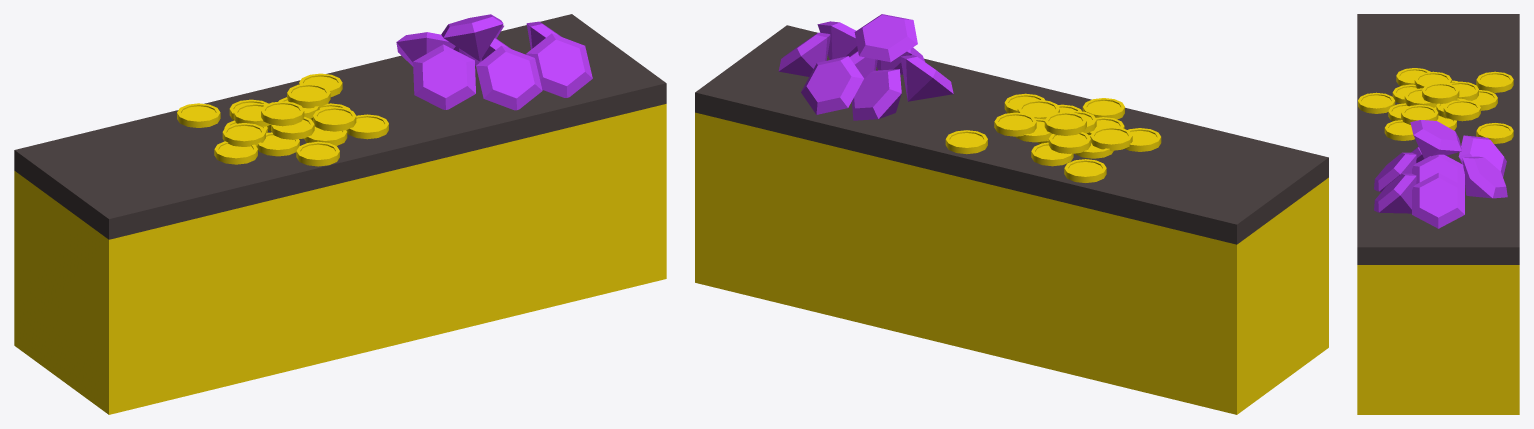
The model's file is Table_Vip.fbx.
3 renders of one model, left to right at view 1: azimuth 30°, elevation 25°; view 2: azimuth 150°, elevation 25°; view 3: azimuth 270°, elevation 25°, orthographic. The views are drawn at different scales.
Parts seen in each view (by area): view 1: Table_vip2, Table_vip1, Table_vip3; view 2: Table_vip2, Table_vip1, Table_vip3; view 3: Table_vip2, Table_vip1, Table_vip3.
Part boxes in pixels (x1,y1,x2,y2): Table_vip2: [14, 14, 666, 414]; Table_vip1: [396, 14, 592, 110]; Table_vip3: [177, 73, 388, 166]; Table_vip2: [695, 25, 1328, 414]; Table_vip1: [778, 14, 953, 120]; Table_vip3: [945, 93, 1161, 182]; Table_vip2: [1357, 14, 1519, 414]; Table_vip1: [1374, 120, 1507, 228]; Table_vip3: [1358, 68, 1513, 143].
Size of the model in its own units: 3.4 by 1.56 by 1.
